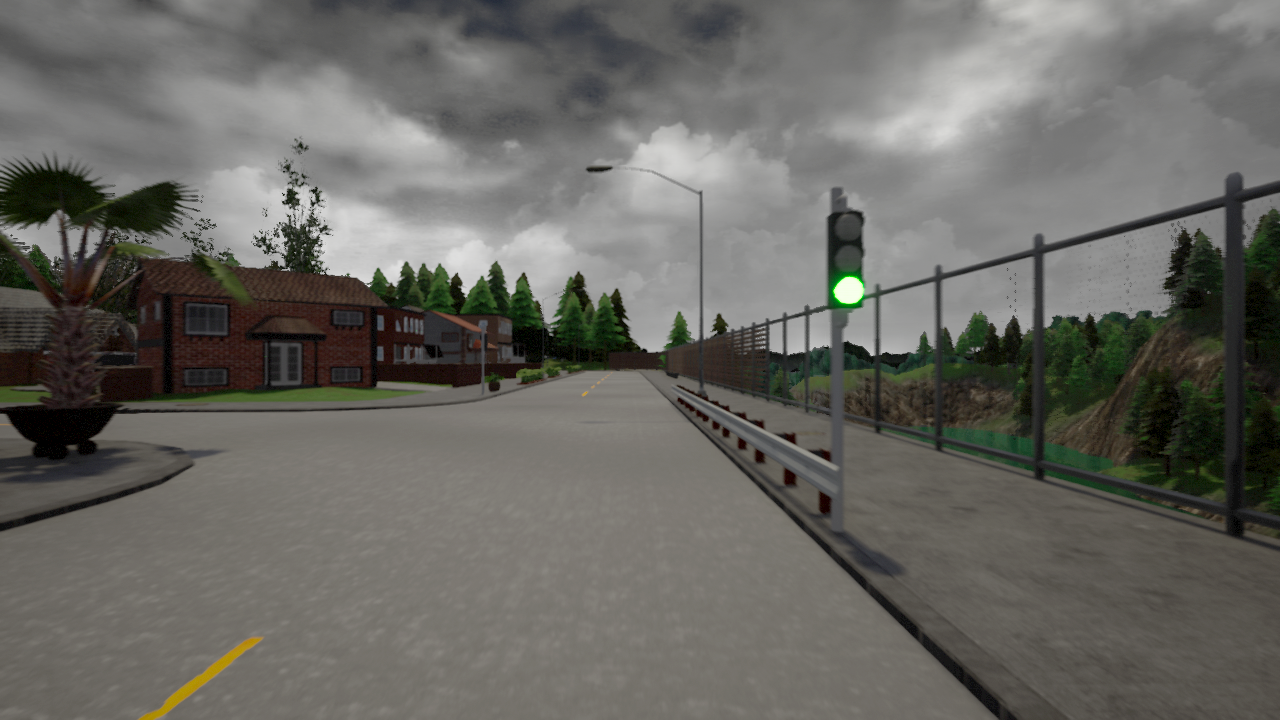green: (823, 207, 867, 309)
